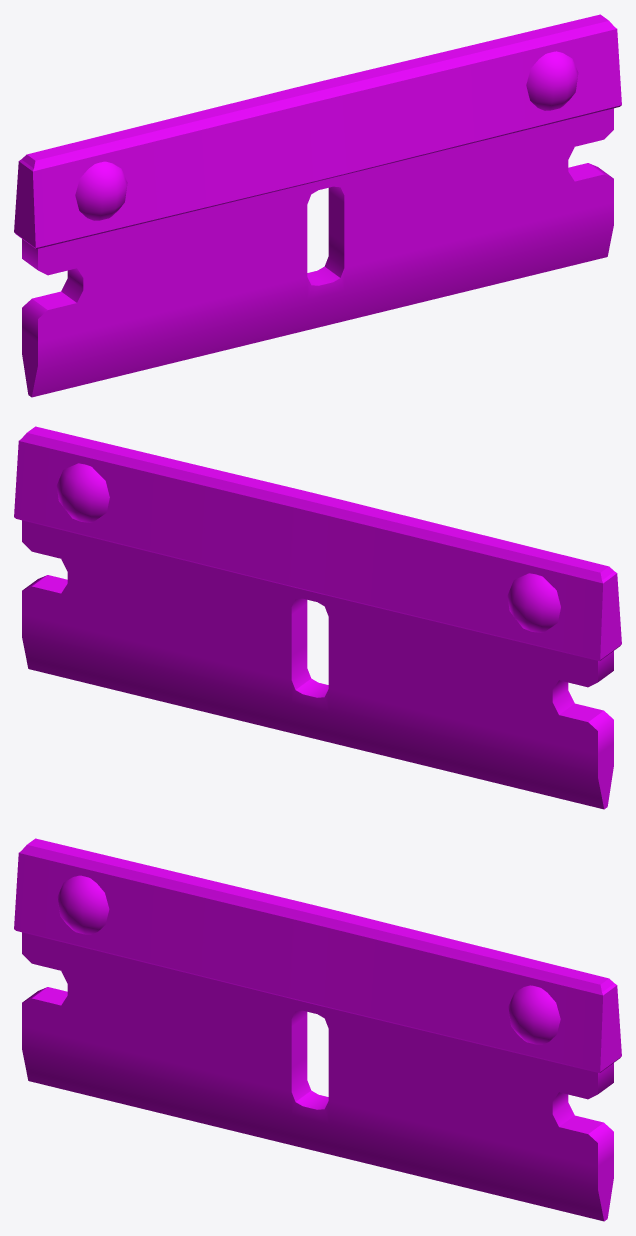
File: Razor.FBX
The picture shows the model from 3 angles, top to bottom: view 1: azimuth 30°, elevation 25°; view 2: azimuth 150°, elevation 25°; view 3: azimuth 330°, elevation 25°; orthographic projection.
Parts seen in each view (by area): view 1: Box076; view 2: Box076; view 3: Box076.
Boxes of the visible parts, left/top/right/bottom form: Box076: left=14, top=14, right=621, bottom=397; Box076: left=14, top=426, right=621, bottom=809; Box076: left=14, top=838, right=621, bottom=1221.
Size of the model in its own units: 63.79 by 24.89 by 6.69.
